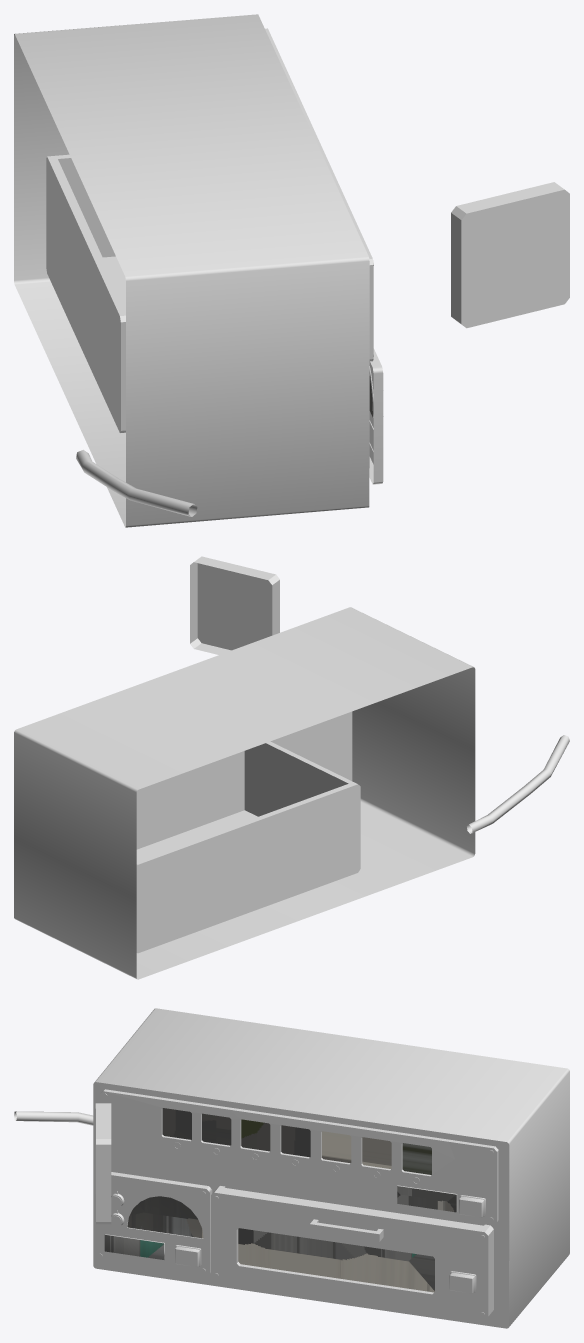
File: MultiUnits_01.fbx
3 renders of one model, top to bottom at view 1: azimuth 30°, elevation 25°; view 2: azimuth 150°, elevation 25°; view 3: azimuth 270°, elevation 25°, orthographic. The views are drawn at different scales.
Parts seen in each view (by area): view 1: bottombaseUnit, colorMeter_highlight, spectromMod_v1, modBox_cord_v1, photomMod_v1, colorMeter_mod_v1; view 2: bottombaseUnit, spectromMod_v1, colorMeter_highlight, modBox_cord_v1; view 3: bottombaseUnit, colorMeter_mod_v1, spectromMod_v1, photomMod_v1, colorMeter_highlight, modBox_cord_v1, spectrom_btn_01, colorM_btn_v1, photom_btn_v1.
Boxes of the visible parts, x1=… form: bottombaseUnit: x1=14, y1=14, x2=369, y2=527; colorMeter_highlight: x1=451, y1=182, x2=569, y2=328; spectromMod_v1: x1=46, y1=154, x2=125, y2=432; modBox_cord_v1: x1=76, y1=449, x2=197, y2=516; photomMod_v1: x1=369, y1=348, x2=383, y2=484; colorMeter_mod_v1: x1=265, y1=28, x2=373, y2=361; bottombaseUnit: x1=14, y1=607, x2=475, y2=979; spectromMod_v1: x1=136, y1=741, x2=360, y2=953; colorMeter_highlight: x1=190, y1=556, x2=279, y2=654; modBox_cord_v1: x1=466, y1=735, x2=569, y2=833; bottombaseUnit: x1=93, y1=1008, x2=569, y2=1328; colorMeter_mod_v1: x1=100, y1=1089, x2=498, y2=1224; spectromMod_v1: x1=211, y1=1186, x2=493, y2=1319; photomMod_v1: x1=95, y1=1172, x2=212, y2=1275; colorMeter_highlight: x1=95, y1=1103, x2=111, y2=1224; modBox_cord_v1: x1=14, y1=1111, x2=93, y2=1125; spectrom_btn_01: x1=449, y1=1272, x2=475, y2=1293; colorM_btn_v1: x1=459, y1=1196, x2=484, y2=1217; photom_btn_v1: x1=175, y1=1246, x2=200, y2=1267.
Size of the model in its own units: 3.93 by 2.23 by 5.59.
